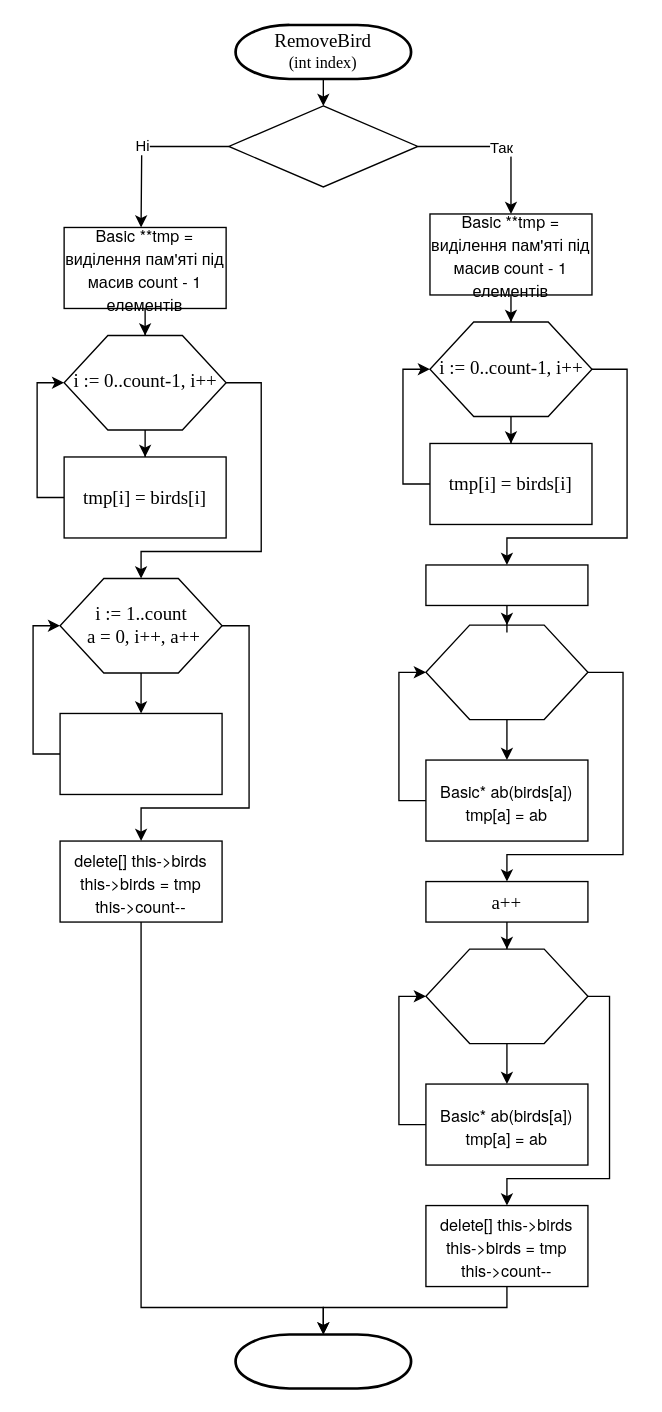
This 662x1412 diagram has some shape labels left out. Here are the shapes that lost their labels. From the top down, the centre of each, then its label:
(x=322, y=146): index > 0
(x=506, y=584): а = 0
(x=506, y=672): a := 0..index, a++
(x=140, y=753): Basic* ab(birds[i]) tmp[a] = ab
(x=506, y=996): a := a..count, a++
(x=323, y=1360): Кінець
